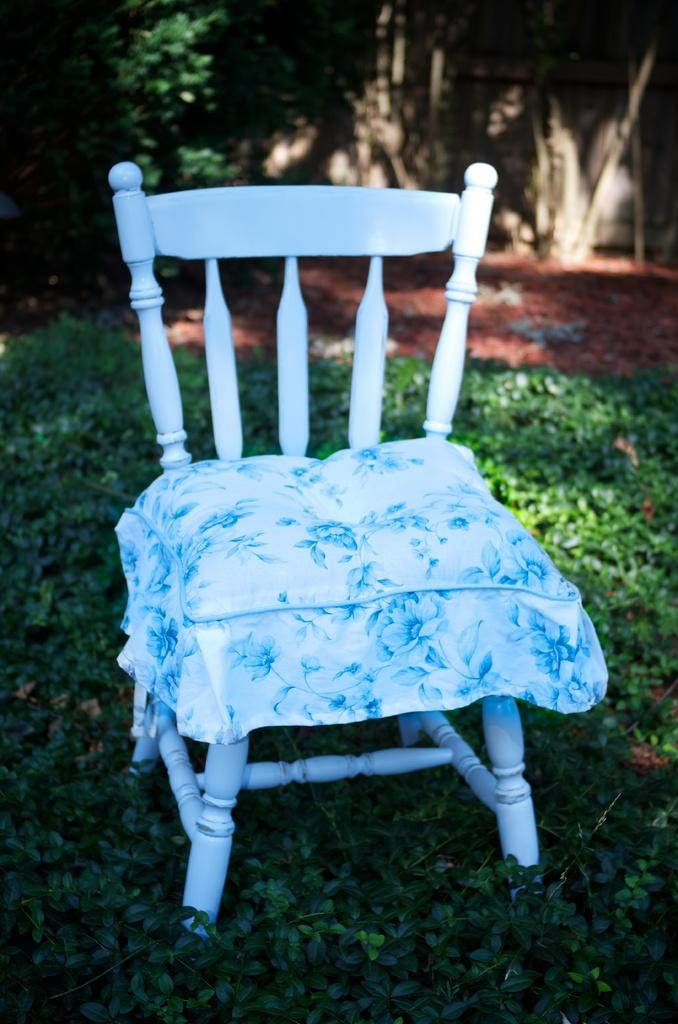Chair: (85, 105, 627, 966)
